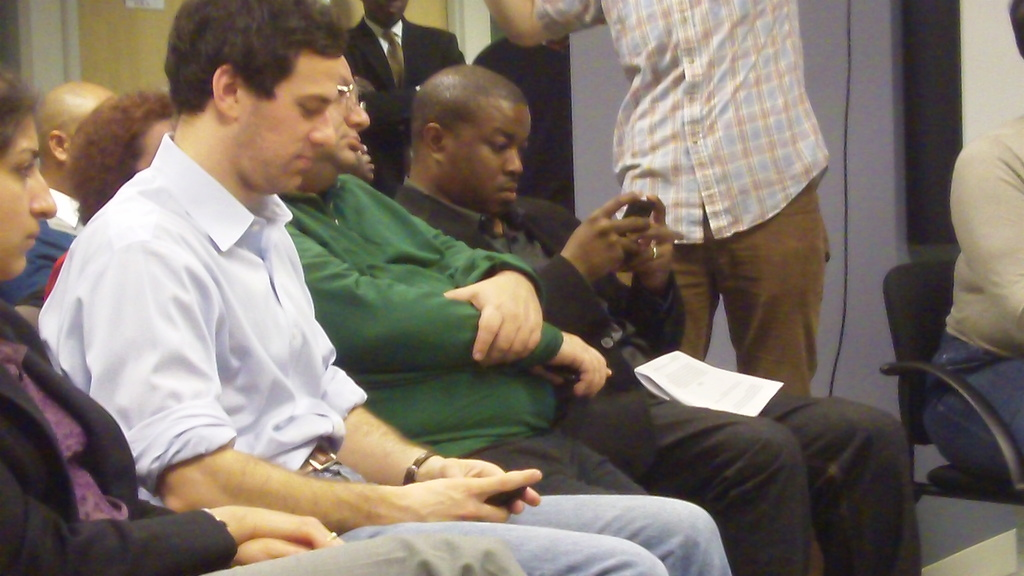Human_hand: (453, 256, 558, 372), (561, 189, 653, 283), (398, 468, 545, 523), (415, 457, 545, 518), (230, 506, 344, 548), (627, 191, 676, 288), (546, 328, 612, 397), (228, 536, 314, 566)
